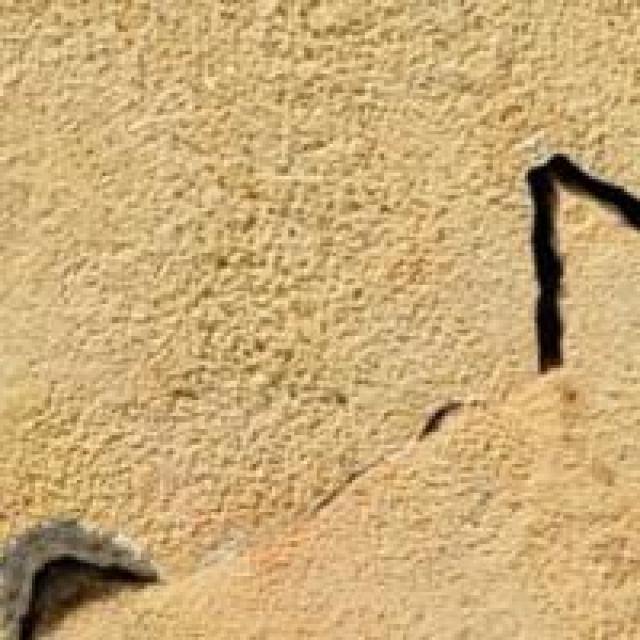Crack: (0, 144, 637, 637)
